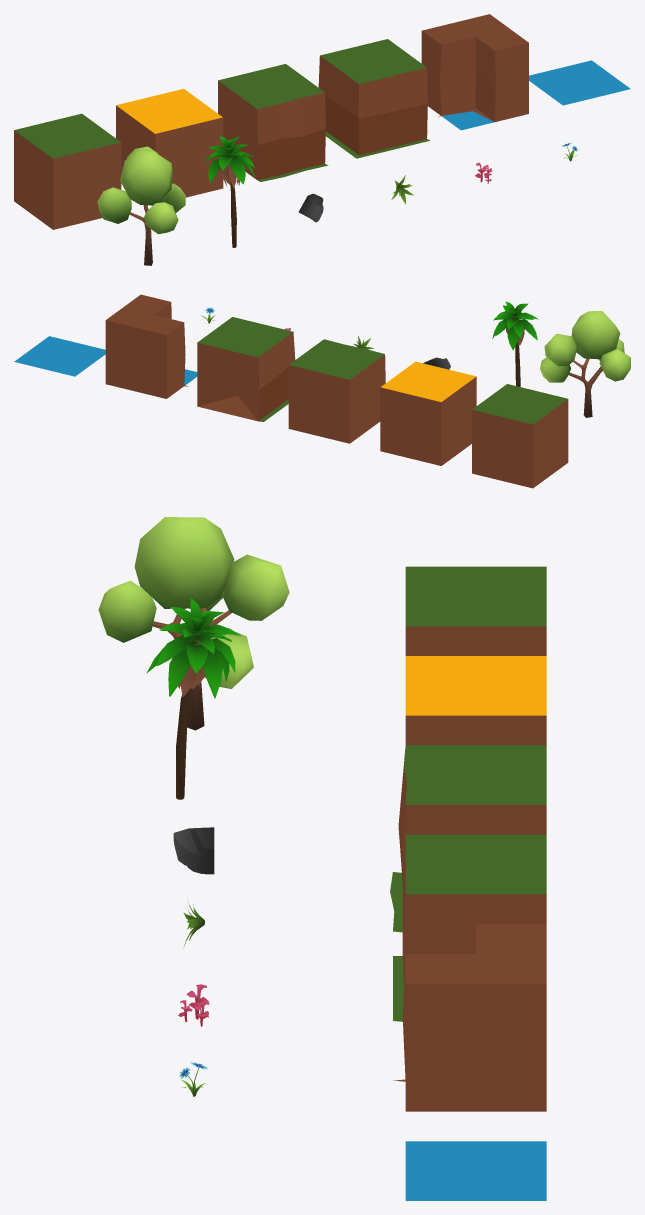
Rendered from terrain_tileset.glb.
3 views of the same model, one above another, from view 1: azimuth 30°, elevation 25°; view 2: azimuth 150°, elevation 25°; view 3: azimuth 270°, elevation 25° (orthographic). The views are drawn at different scales.
Parts seen in each view (by area): view 1: Tile_Cliff_Corner_Outer, Tile_Cliff_Corner_Inner, Tile_Cliff_Straight, Tile_Ground_Grass, Tile_Ground_Dirt, Prop_Tree_Round, Tile_Water_Ocean, Prop_Tree_Palm, Prop_Rock; view 2: Tile_Ground_Grass, Tile_Cliff_Corner_Outer, Tile_Cliff_Straight, Tile_Ground_Dirt, Tile_Cliff_Corner_Inner, Prop_Tree_Round, Tile_Water_Ocean, Prop_Tree_Palm; view 3: Tile_Cliff_Corner_Inner, Tile_Cliff_Corner_Outer, Prop_Tree_Round, Tile_Cliff_Straight, Tile_Ground_Dirt, Tile_Ground_Grass, Tile_Water_Ocean, Prop_Tree_Palm, Prop_Rock.
Part boxes in pixels (left/top/right/bottom): Tile_Cliff_Corner_Outer: left=318, top=39, right=429, bottom=158; Tile_Cliff_Corner_Inner: left=421, top=14, right=528, bottom=130; Tile_Cliff_Straight: left=218, top=64, right=328, bottom=181; Tile_Ground_Grass: left=14, top=113, right=121, bottom=229; Tile_Ground_Dirt: left=116, top=88, right=223, bottom=197; Prop_Tree_Round: left=97, top=146, right=185, bottom=265; Tile_Water_Ocean: left=529, top=60, right=630, bottom=105; Prop_Tree_Palm: left=203, top=136, right=255, bottom=247; Prop_Rock: left=298, top=193, right=323, bottom=222; Tile_Ground_Grass: left=472, top=384, right=568, bottom=488; Tile_Cliff_Corner_Outer: left=197, top=317, right=295, bottom=421; Tile_Cliff_Straight: left=288, top=339, right=385, bottom=443; Tile_Ground_Dirt: left=380, top=361, right=476, bottom=465; Tile_Cliff_Corner_Inner: left=105, top=294, right=197, bottom=398; Prop_Tree_Round: left=540, top=311, right=630, bottom=417; Tile_Water_Ocean: left=14, top=336, right=105, bottom=376; Prop_Tree_Palm: left=492, top=301, right=538, bottom=386; Tile_Cliff_Corner_Inner: left=393, top=924, right=546, bottom=1111; Tile_Cliff_Corner_Outer: left=393, top=834, right=546, bottom=1021; Prop_Tree_Round: left=98, top=517, right=289, bottom=730; Tile_Cliff_Straight: left=390, top=745, right=546, bottom=932; Tile_Ground_Dirt: left=405, top=656, right=546, bottom=745; Tile_Ground_Grass: left=405, top=566, right=546, bottom=655; Tile_Water_Ocean: left=405, top=1141, right=546, bottom=1200; Prop_Tree_Palm: left=146, top=598, right=240, bottom=799; Prop_Rock: left=173, top=827, right=214, bottom=874.
Bounding box in the file's own units: 17.32 × 3.2 × 6.36.
1 material, 1 textured.
